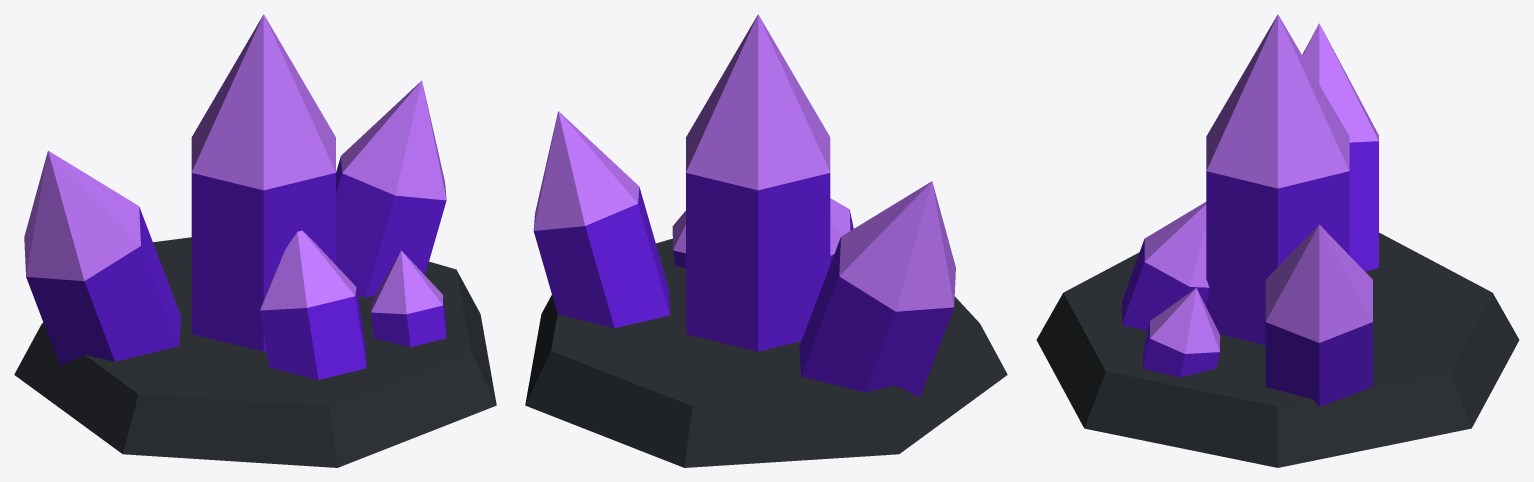
Rendered from crystal.glb.
3 renders of one model, left to right at view 1: azimuth 30°, elevation 25°; view 2: azimuth 150°, elevation 25°; view 3: azimuth 270°, elevation 25°, orthographic.
Parts seen in each view (by area): view 1: crystal; view 2: crystal; view 3: crystal.
Boxes of the visible parts, <box> form: crystal: <box>14,14,496,467</box>; crystal: <box>525,14,1007,467</box>; crystal: <box>1036,14,1519,467</box>.
Size of the model in its own units: 0.3601 by 0.2971 by 0.351.
Materials: 1 (1 with a texture image).
